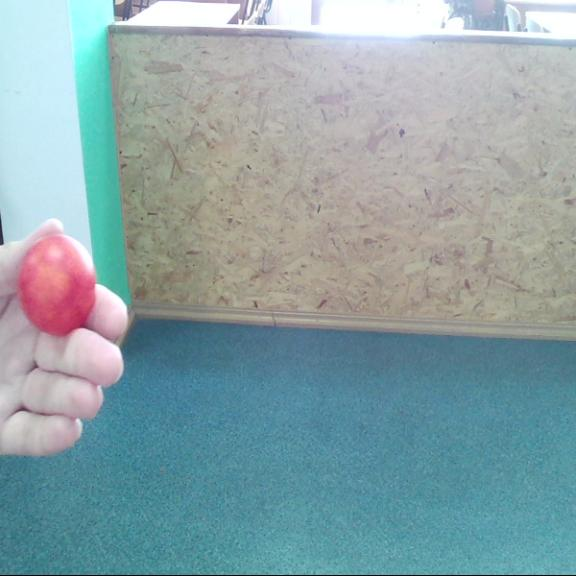ball: (21, 234, 96, 336)
